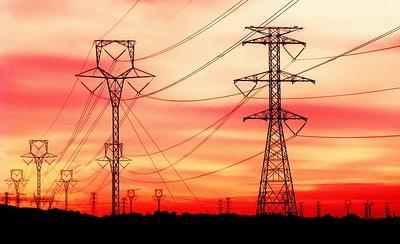power_tower: (234, 25, 319, 219), (87, 36, 158, 217), (23, 134, 61, 215), (4, 168, 32, 214), (54, 166, 80, 215)
